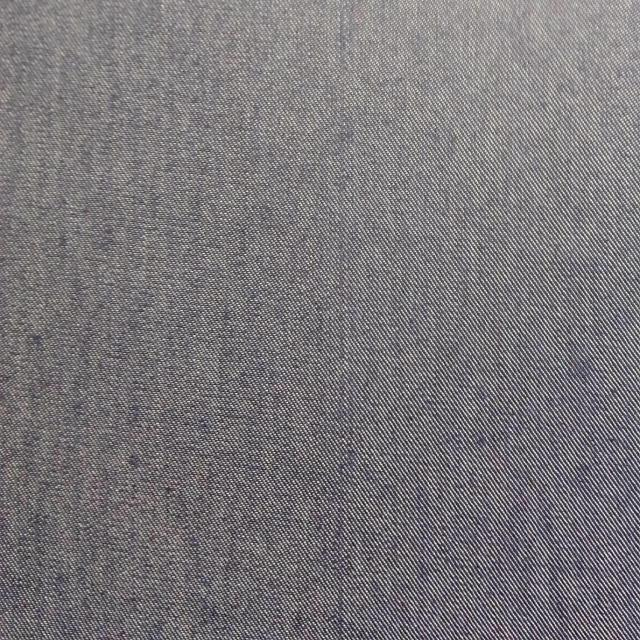Line: (333, 0, 350, 636)
